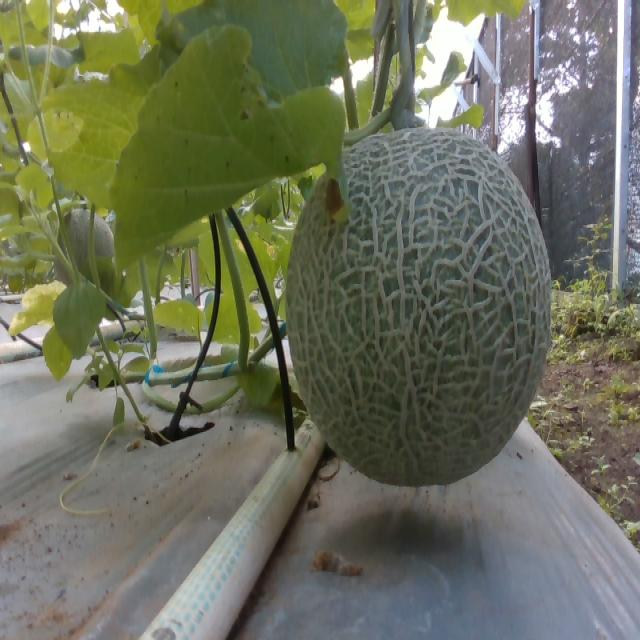melon: (288, 128, 552, 486)
